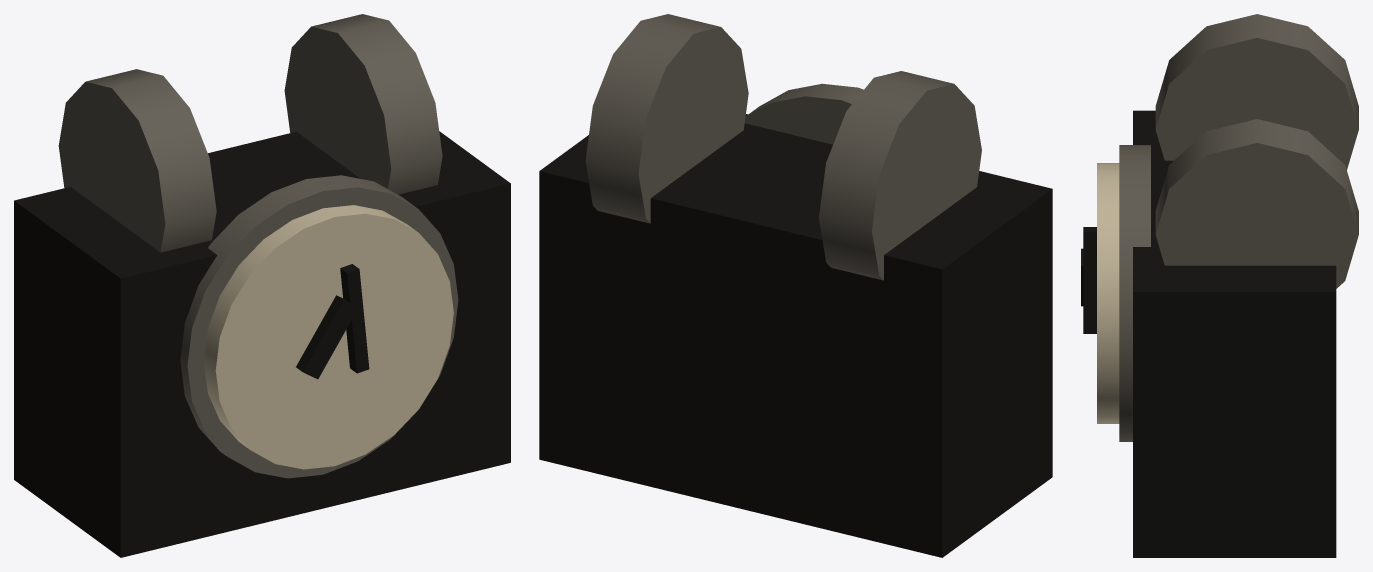
The model's file is alarm_clock_analog.glb.
3 views of the same model, side by side, from view 1: azimuth 30°, elevation 25°; view 2: azimuth 150°, elevation 25°; view 3: azimuth 270°, elevation 25° (orthographic). The views are drawn at different scales.
Visible parts, largest first — view 1: dark__case, paper__face, metal__bell, _MeshInstance3D_111, metal__bezel, dark__hour_hand, dark__minute_hand; view 2: dark__case, _MeshInstance3D_111, metal__bell, metal__bezel; view 3: dark__case, _MeshInstance3D_111, metal__bell, paper__face, metal__bezel, dark__minute_hand.
Boxes of the visible parts, left/top/right/bottom form: dark__case: left=14, top=131, right=510, bottom=557; paper__face: left=204, top=205, right=453, bottom=469; metal__bell: left=58, top=69, right=216, bottom=252; _MeshInstance3D_111: left=284, top=14, right=442, bottom=194; metal__bezel: left=180, top=175, right=458, bottom=478; dark__hour_hand: left=296, top=295, right=358, bottom=379; dark__minute_hand: left=340, top=264, right=369, bottom=373; dark__case: left=539, top=114, right=1052, bottom=557; _MeshInstance3D_111: left=585, top=14, right=748, bottom=223; metal__bell: left=819, top=71, right=981, bottom=280; metal__bezel: left=744, top=83, right=863, bottom=144; dark__case: left=1133, top=110, right=1336, bottom=557; _MeshInstance3D_111: left=1155, top=119, right=1358, bottom=288; metal__bell: left=1155, top=14, right=1358, bottom=169; paper__face: left=1097, top=163, right=1119, bottom=423; metal__bezel: left=1119, top=145, right=1150, bottom=441; dark__minute_hand: left=1083, top=227, right=1096, bottom=333.
Bounding box in the file's own units: 0.19 × 0.19 × 0.123.
